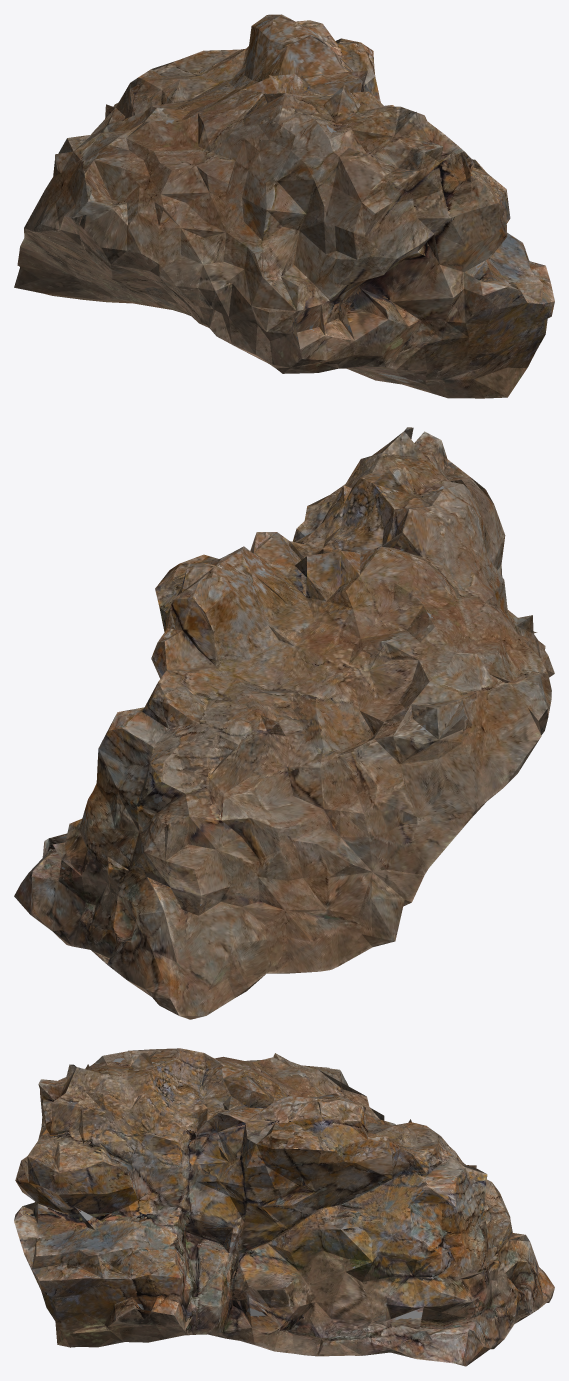
Rendered from boulder.glb.
3 renders of one model, top to bottom at view 1: azimuth 30°, elevation 25°; view 2: azimuth 150°, elevation 25°; view 3: azimuth 270°, elevation 25°, orthographic. The views are drawn at different scales.
Parts seen in each view (by area): view 1: car; view 2: car; view 3: car.
Part boxes in pixels (x1,y1,x2,y2): car: (14, 14, 554, 398); car: (14, 427, 554, 1019); car: (14, 1048, 554, 1366).
Size of the model in its own units: 1.27 by 0.9969 by 1.82.
Materials: 1 (1 with a texture image).
